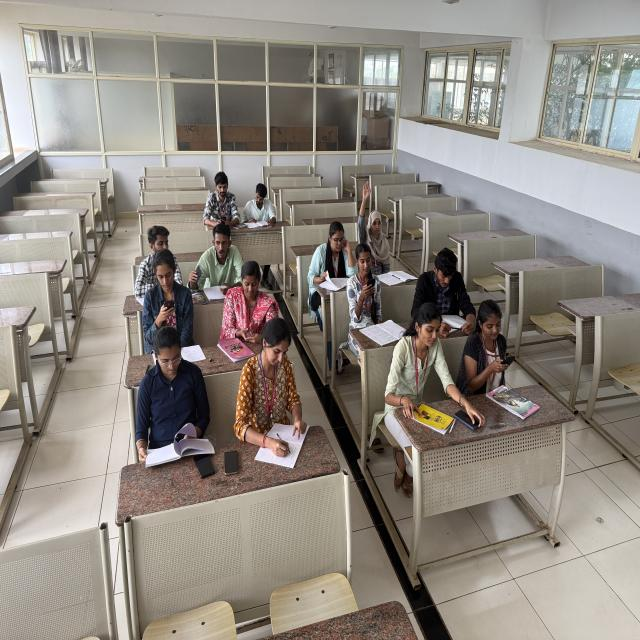Hand Rising: (352, 176, 391, 256)
Reading: (128, 326, 222, 484), (415, 247, 476, 332), (310, 220, 355, 295), (244, 182, 280, 228)
Using Phone: (214, 253, 281, 347), (135, 244, 196, 341), (460, 296, 520, 394), (188, 218, 245, 310), (341, 240, 389, 336), (201, 168, 243, 232)
Writing: (230, 313, 313, 467)
